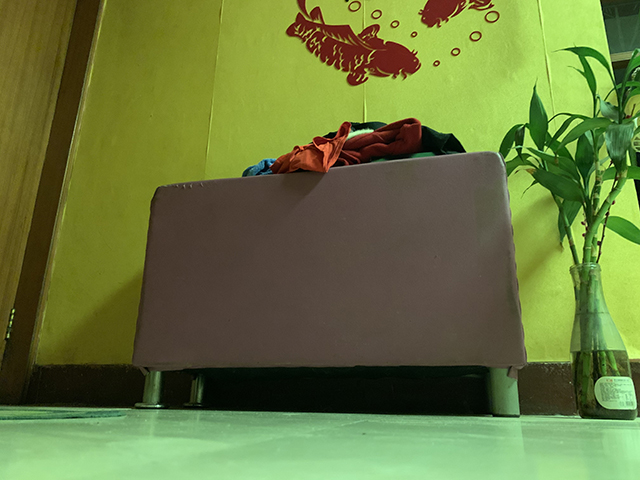stool: (126, 149, 528, 419)
